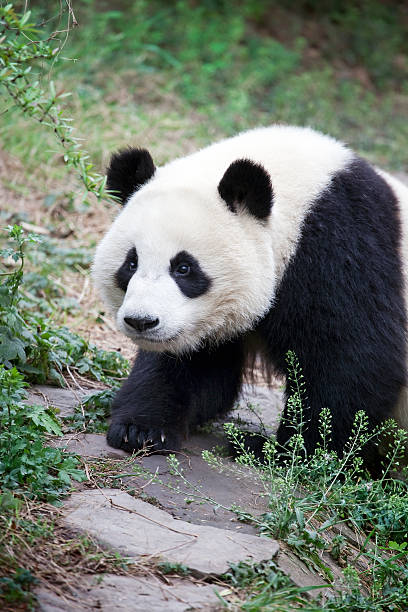panda: (70, 110, 294, 368)
